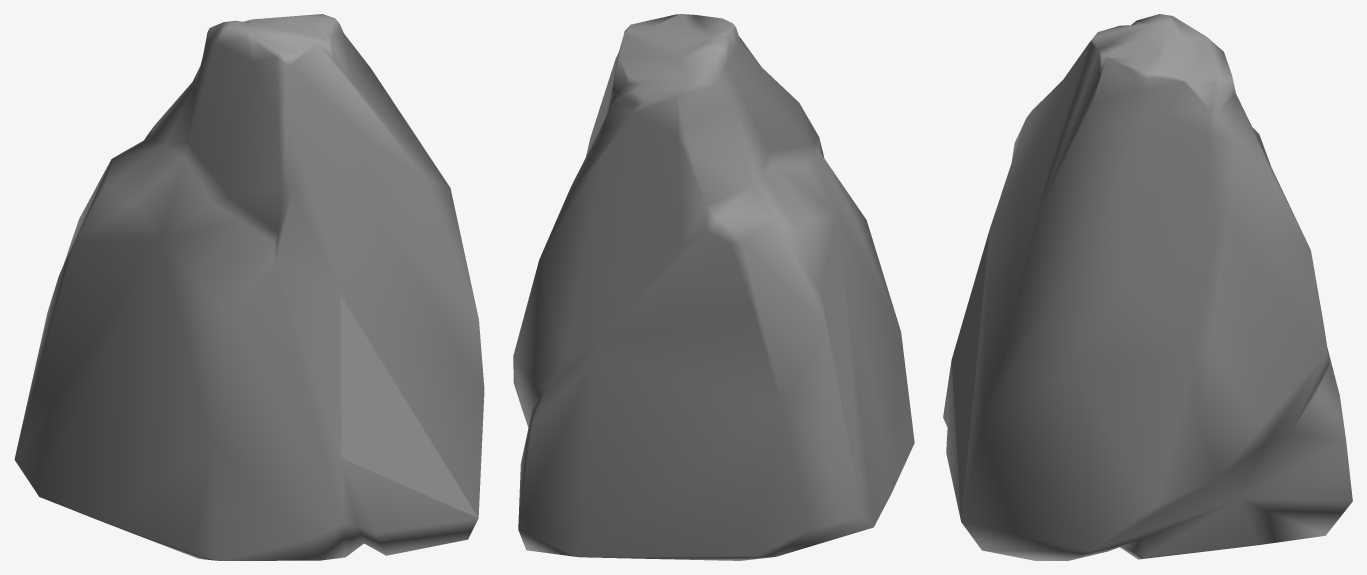
The model's file is Batu5.fbx.
The picture shows the model from 3 angles, left to right: view 1: azimuth 30°, elevation 25°; view 2: azimuth 150°, elevation 25°; view 3: azimuth 270°, elevation 25°; orthographic projection. The views are drawn at different scales.
Visible parts, largest first — view 1: SM_Rocks_05; view 2: SM_Rocks_05; view 3: SM_Rocks_05.
Boxes of the visible parts, x1=… form: SM_Rocks_05: x1=14, y1=14, x2=484, y2=560; SM_Rocks_05: x1=513, y1=14, x2=914, y2=560; SM_Rocks_05: x1=943, y1=14, x2=1352, y2=560.
Size of the model in its own units: 89.74 by 114 by 90.27.
